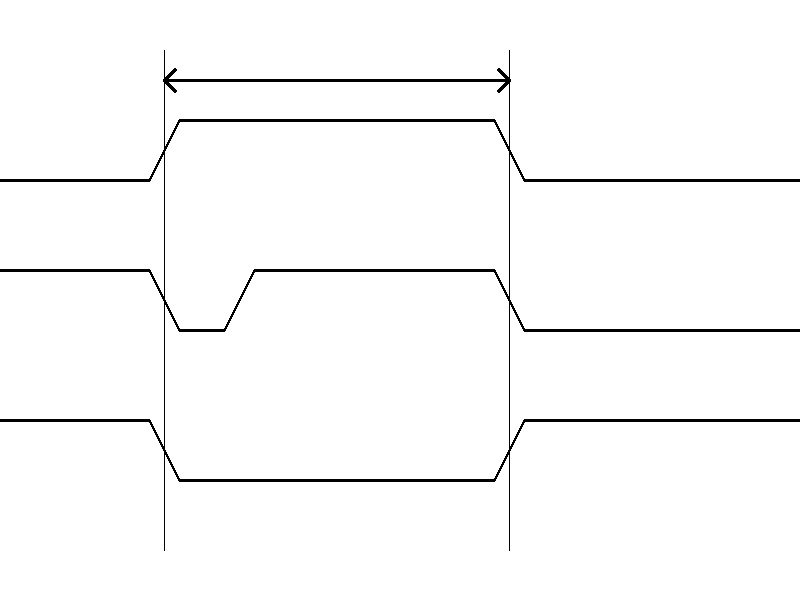double_arrow: (164, 65, 509, 95)
